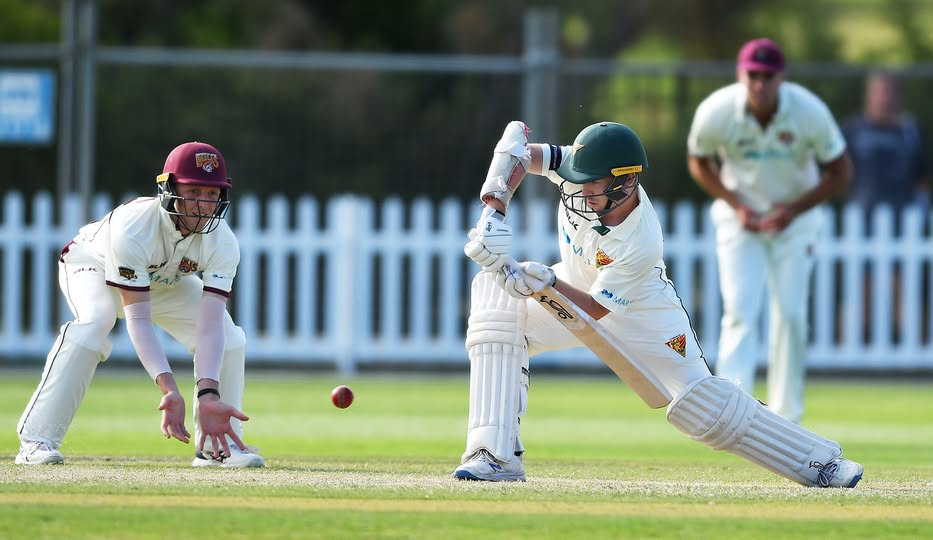Defence: (106, 25, 892, 536)
